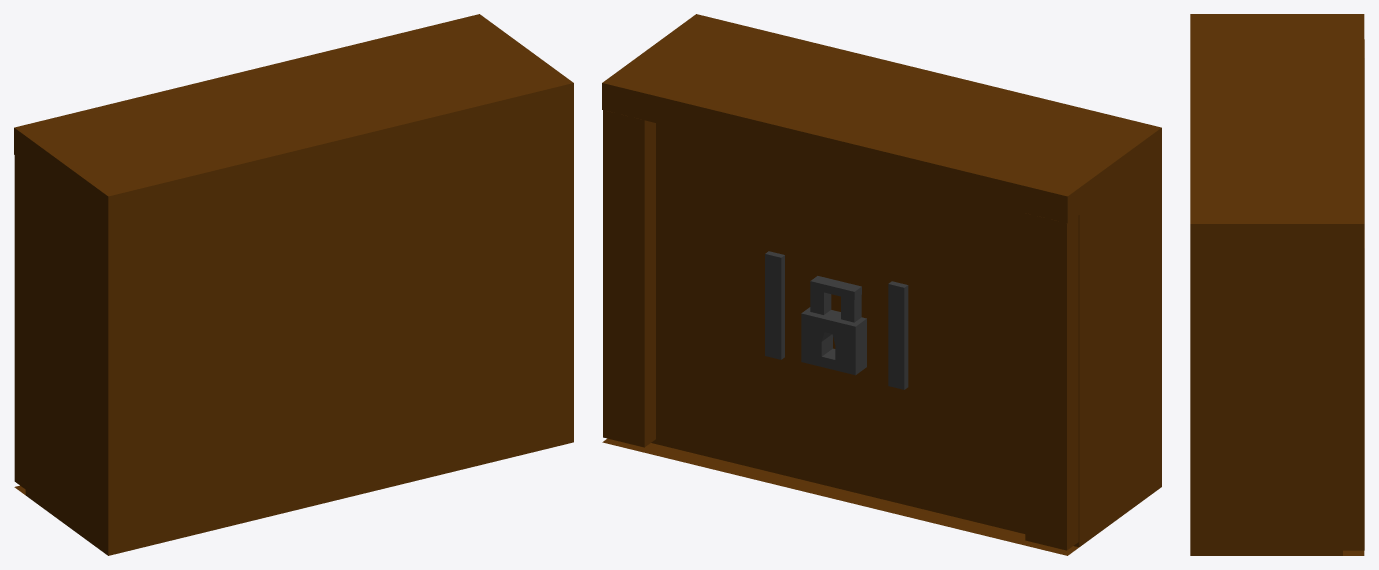
Rendered from puertalvl1.fbx.
The picture shows the model from 3 angles, left to right: view 1: azimuth 30°, elevation 25°; view 2: azimuth 150°, elevation 25°; view 3: azimuth 270°, elevation 25°; orthographic projection. The views are drawn at different scales.
Visible parts, largest first — view 1: Cube.003; view 2: Cube.003; view 3: Cube.003.
Part boxes in pixels (x1=…): Cube.003: x1=14, y1=14, x2=573, y2=555; Cube.003: x1=602, y1=14, x2=1161, y2=555; Cube.003: x1=1190, y1=14, x2=1364, y2=555.
Bounding box in the file's own units: 250 × 184 × 87.65.
